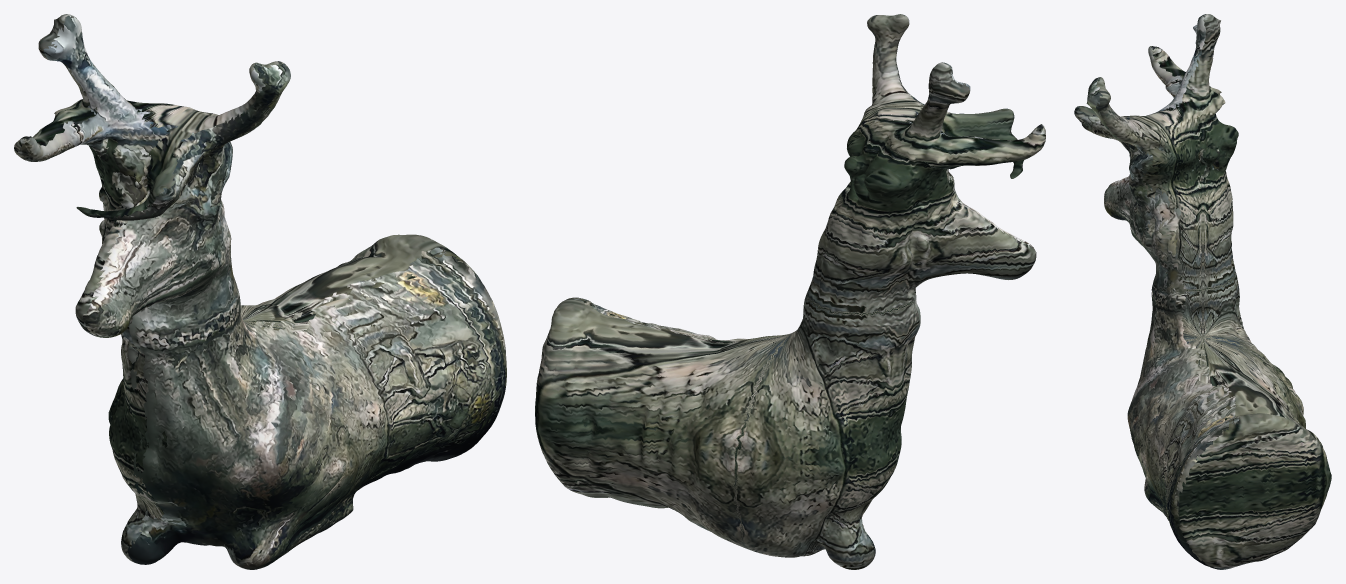
File: ane-17.glb
3 renders of one model, left to right at view 1: azimuth 30°, elevation 25°; view 2: azimuth 150°, elevation 25°; view 3: azimuth 270°, elevation 25°, orthographic. The views are drawn at different scales.
Visible parts, largest first — view 1: ane-17; view 2: ane-17; view 3: ane-17.
Part boxes in pixels (x1,y1,x2,y2): ane-17: (14,14,506,569); ane-17: (535,14,1045,569); ane-17: (1074,14,1331,569).
Size of the model in its own units: 0.9136 by 0.9975 by 0.533.
Materials: 2 (2 with a texture image).
